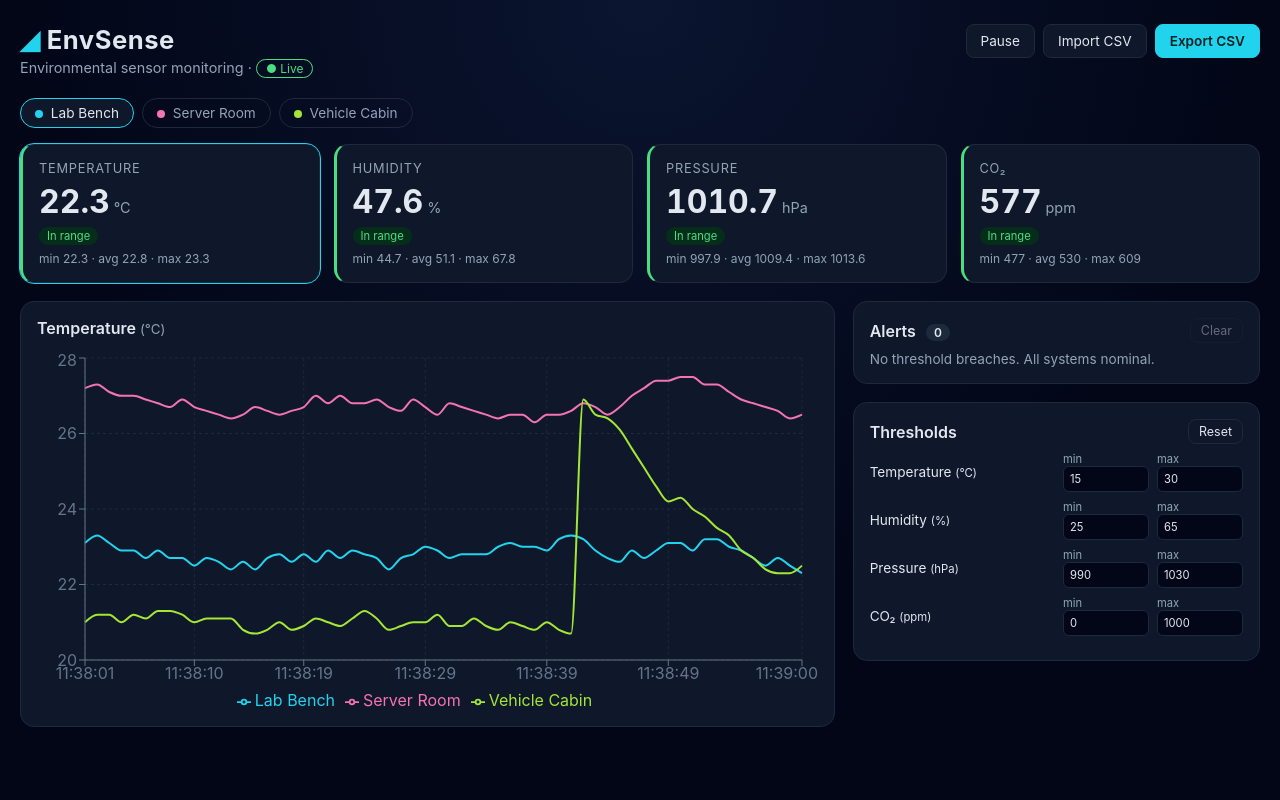
Test case: App › lowering a threshold raises the badge to "Too high"
The image size is (1280, 800).
Replace the text in the number field named "Temperature maximum" with "-50" at (1200, 479), box x1=1157 y1=466 x2=1243 y2=492
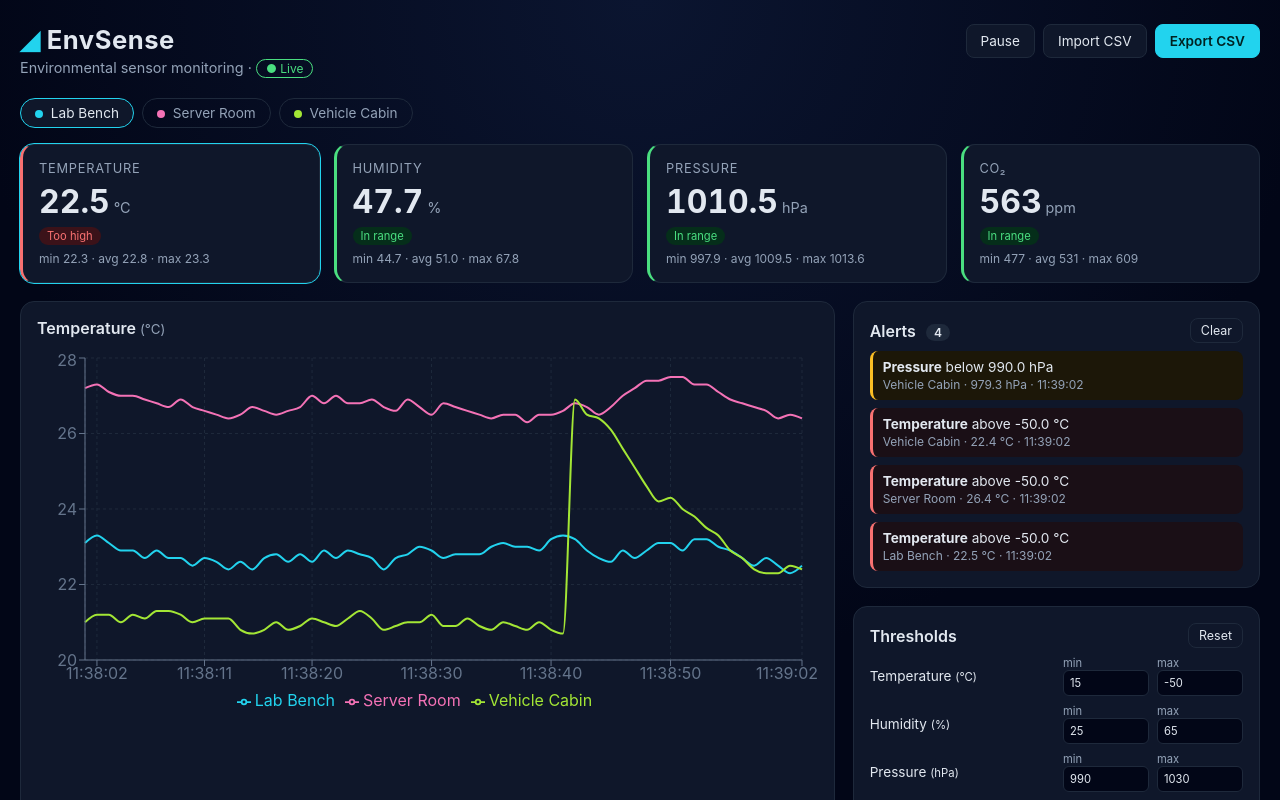
Check: the text "Too high" is shown, box x1=39 y1=227 x2=101 y2=245
